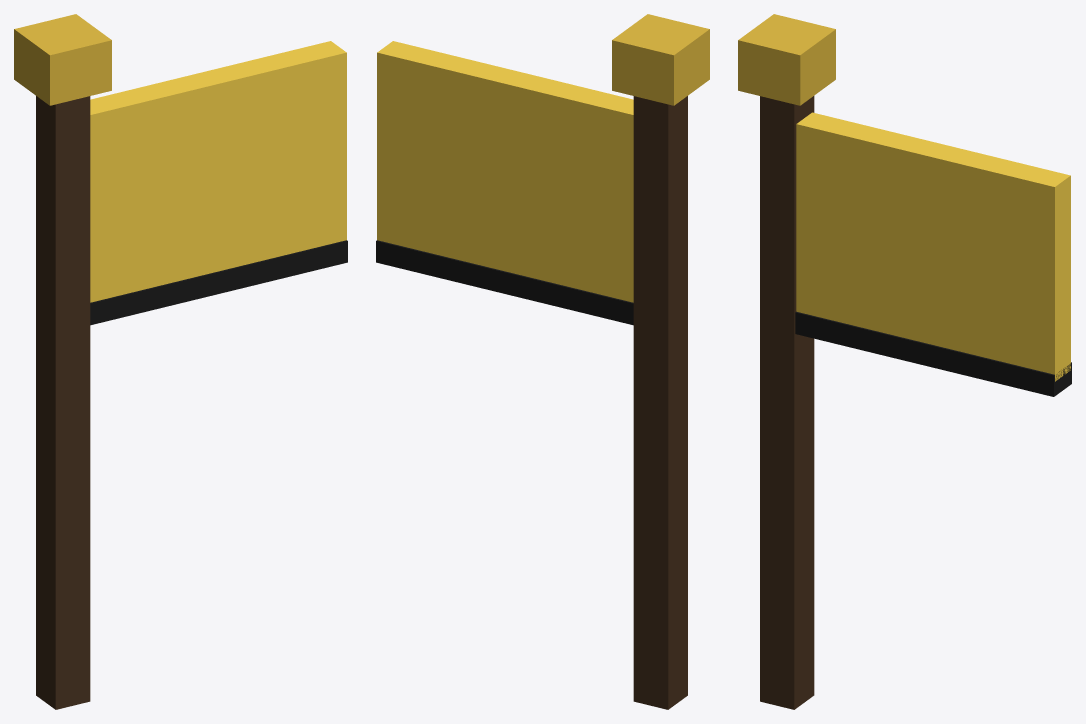
File: flag_2.glb
3 renders of one model, left to right at view 1: azimuth 30°, elevation 25°; view 2: azimuth 150°, elevation 25°; view 3: azimuth 330°, elevation 25°, orthographic.
Size of the model in its own units: 0.89 by 1.84 by 0.18.
1 material, 1 textured.
